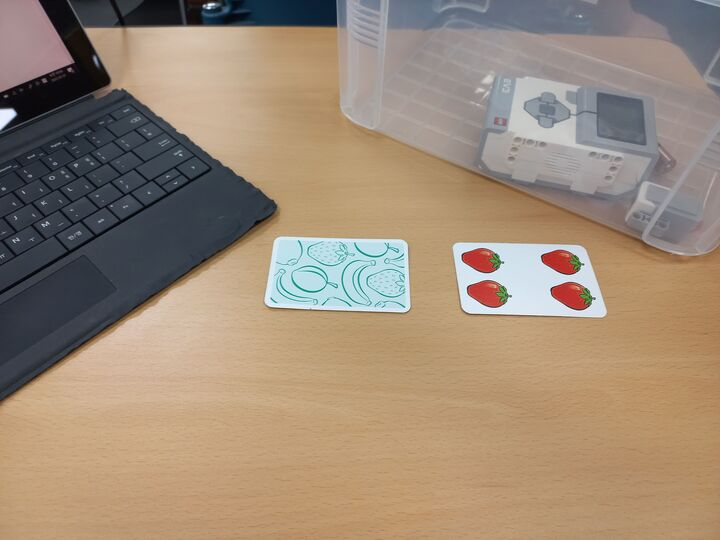strawberry4: (451, 241, 610, 320)
